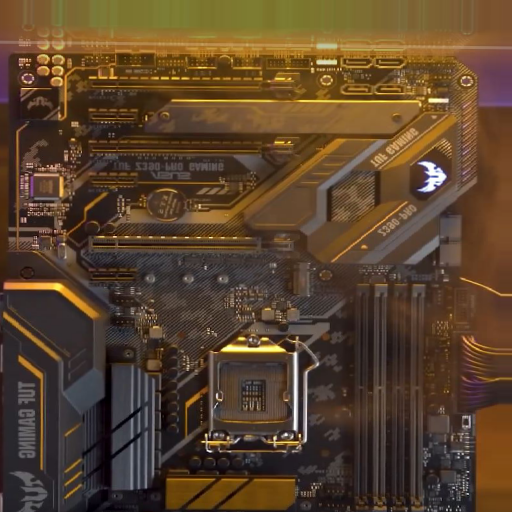CPU: (207, 329, 305, 455)
GPU: (88, 71, 301, 101), (87, 135, 298, 160), (86, 233, 296, 255)
MOTHERBOARD: (1, 45, 478, 512)
RAM: (354, 281, 428, 512)
SSD: (288, 262, 313, 298)
